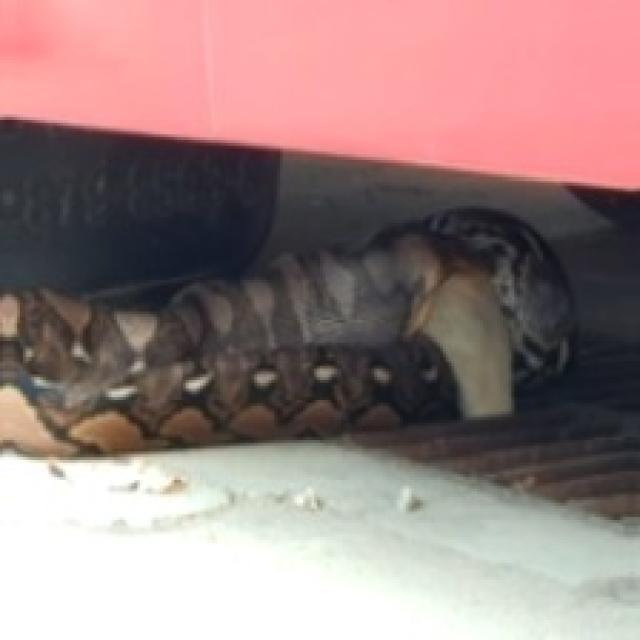reticulated python: (0, 209, 571, 451)
